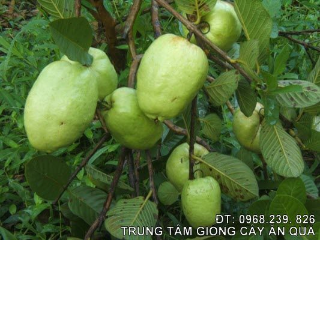oi: (21, 58, 102, 156), (135, 32, 208, 125)
